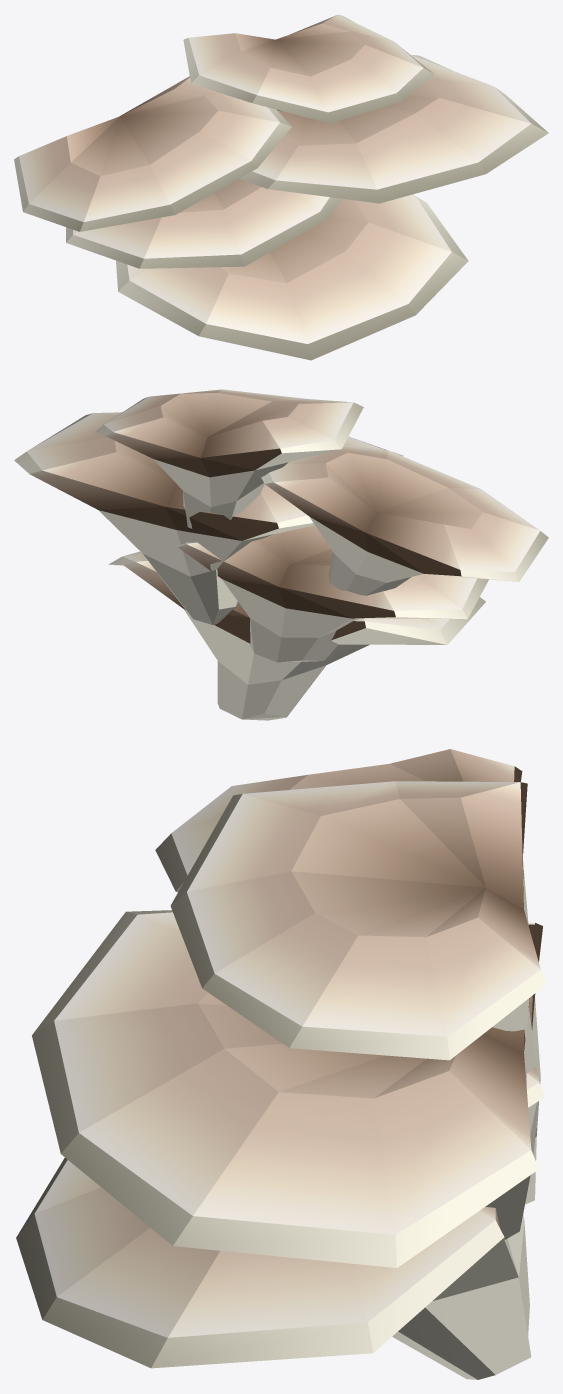
File: MushroomTree-03.FBX
3 renders of one model, top to bottom at view 1: azimuth 30°, elevation 25°; view 2: azimuth 150°, elevation 25°; view 3: azimuth 270°, elevation 25°, orthographic. The views are drawn at different scales.
Parts seen in each view (by area): view 1: MushroomTree-03; view 2: MushroomTree-03; view 3: MushroomTree-03.
Boxes of the visible parts, x1,y1,x2,y2 form: MushroomTree-03: [14, 14, 548, 360]; MushroomTree-03: [14, 389, 548, 720]; MushroomTree-03: [16, 749, 546, 1379].
Size of the model in its own units: 124 by 70.18 by 59.14.
1 material, 1 textured.
